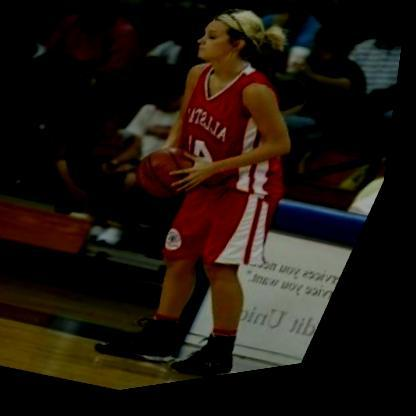basketball: (126, 135, 219, 225)
